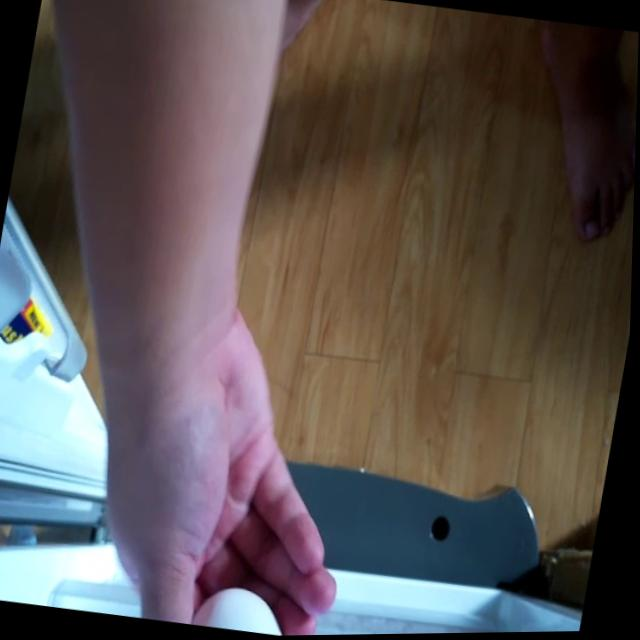egg: (191, 581, 290, 638)
